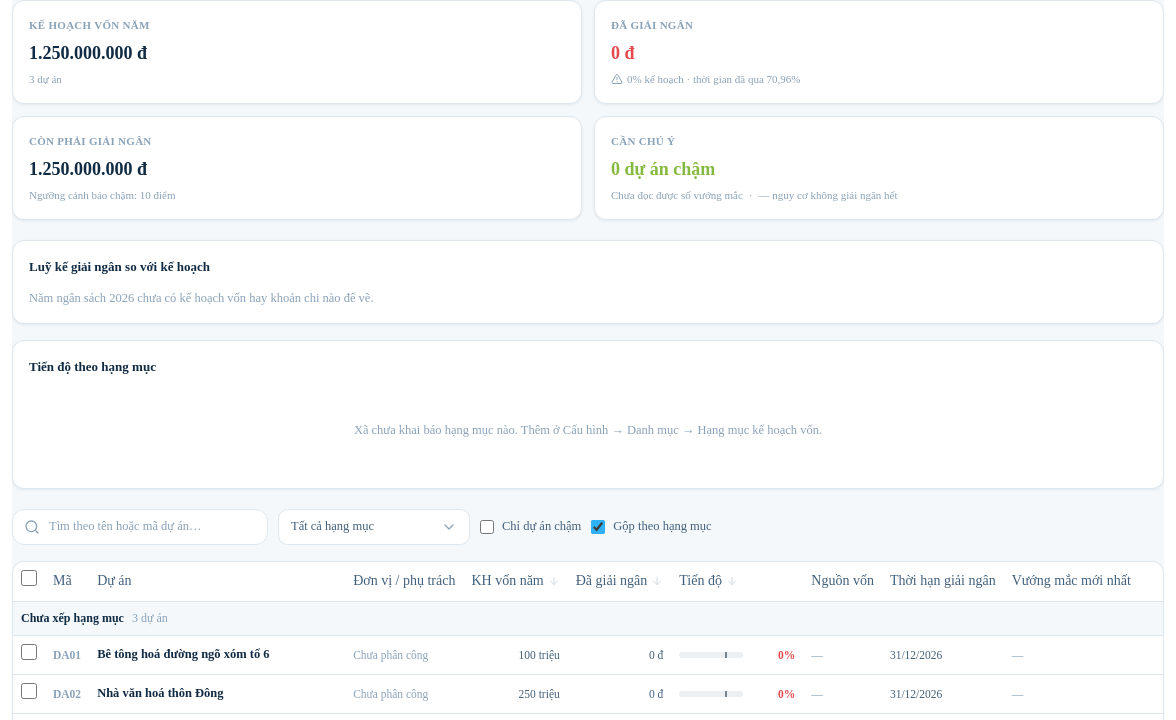
it: Project register — selection gated on budget.update › with the key: one box per row and a select-all; the bar appears once something is ticked
The width and height of the screenshot is (1176, 720).
Expected: the checkbox named "Chọn tất cả dự án đang hiện" is shown, x1=21 y1=570 x2=37 y2=586
Click the checkbox named "Chọn dự án DA02" at (29, 691), box x1=21 y1=683 x2=37 y2=699
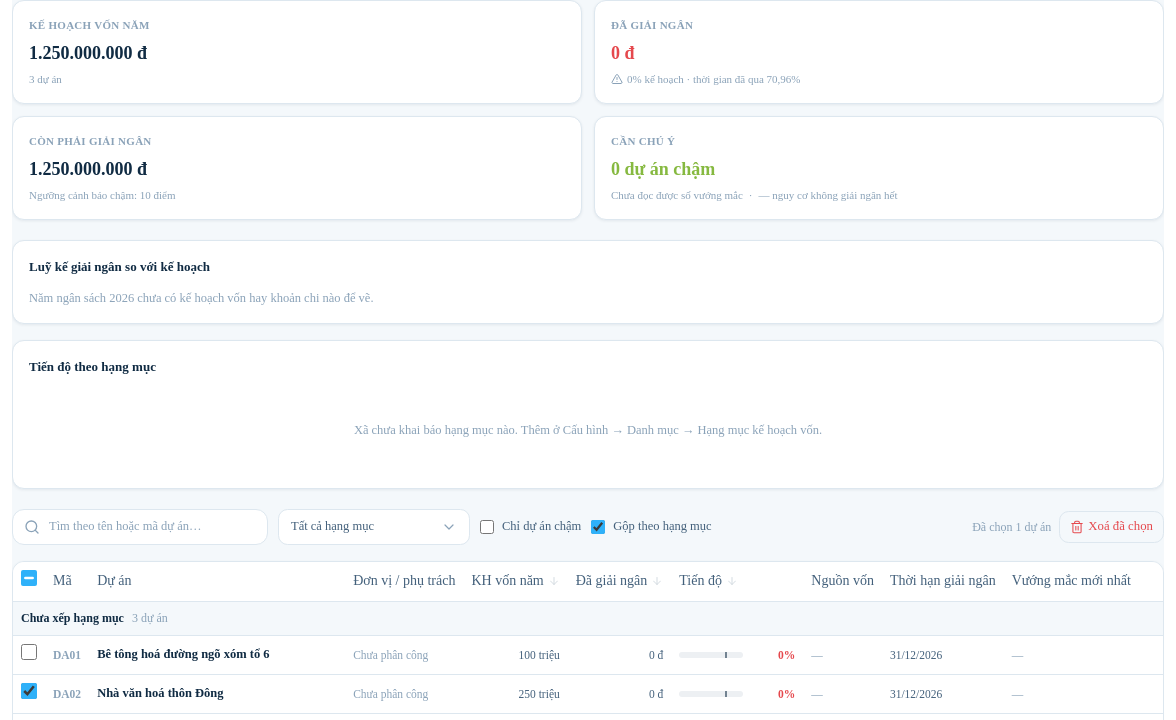
Expected: the checkbox named "Chọn tất cả dự án đang hiện" is not checked, x1=21 y1=570 x2=37 y2=586
Expected: the element showing "Đã chọn 1 dự án Xoá đã chọn" is shown, x1=972 y1=510 x2=1164 y2=542
